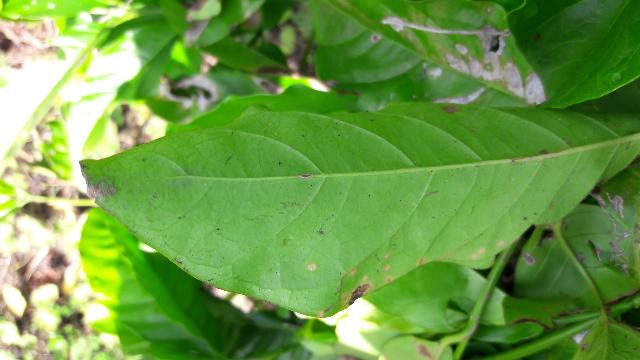rust_level_1: (84, 100, 640, 318)
